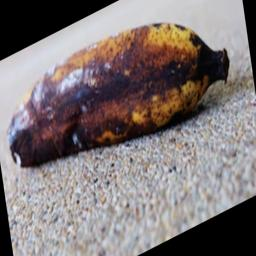Banana Rotten: (9, 24, 239, 154)
